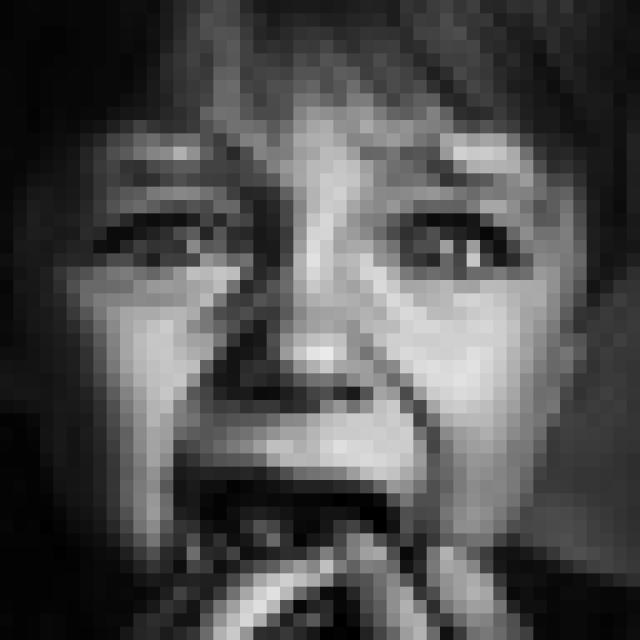fear: (86, 142, 558, 608)
